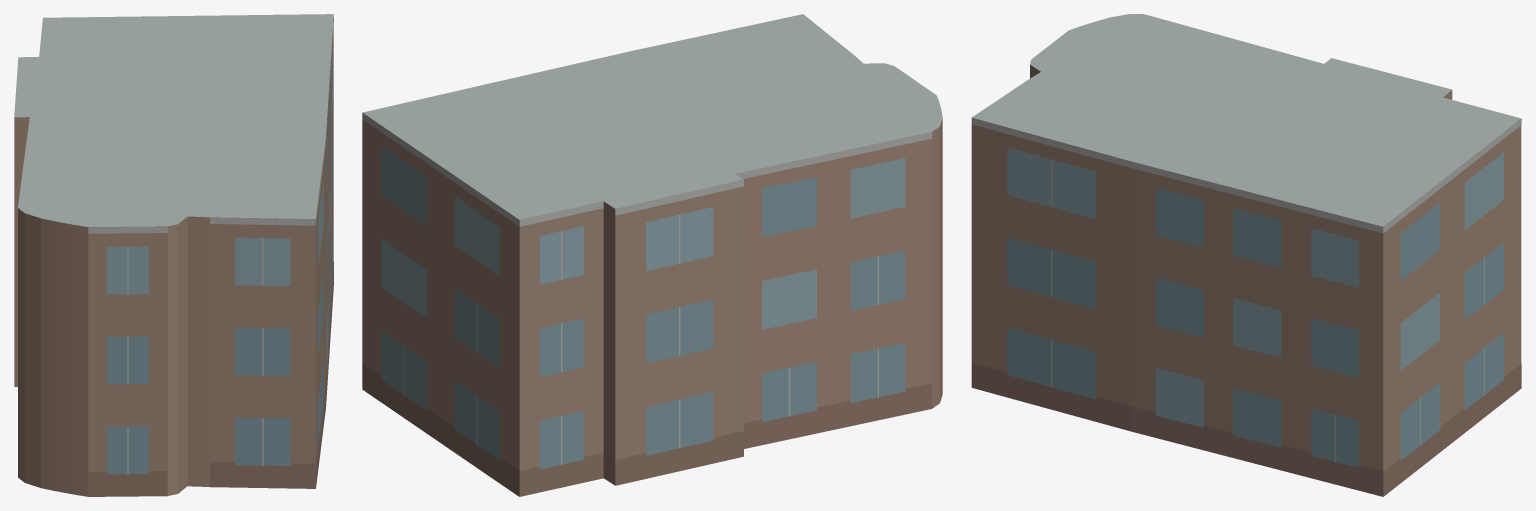
File: survey-upis-32683029.glb
3 views of the same model, side by side, from view 1: azimuth 30°, elevation 25°; view 2: azimuth 150°, elevation 25°; view 3: azimuth 270°, elevation 25° (orthographic). The views are drawn at different scales.
Parts seen in each view (by area): view 1: survey-upis-32683029.tmp; view 2: survey-upis-32683029.tmp; view 3: survey-upis-32683029.tmp.
Boxes of the visible parts, x1,y1,x2,y2 form: survey-upis-32683029.tmp: (14, 14, 333, 496); survey-upis-32683029.tmp: (362, 14, 942, 496); survey-upis-32683029.tmp: (971, 14, 1521, 496).
Bounding box in the file's own units: 16.74 × 9.9 × 18.27.
